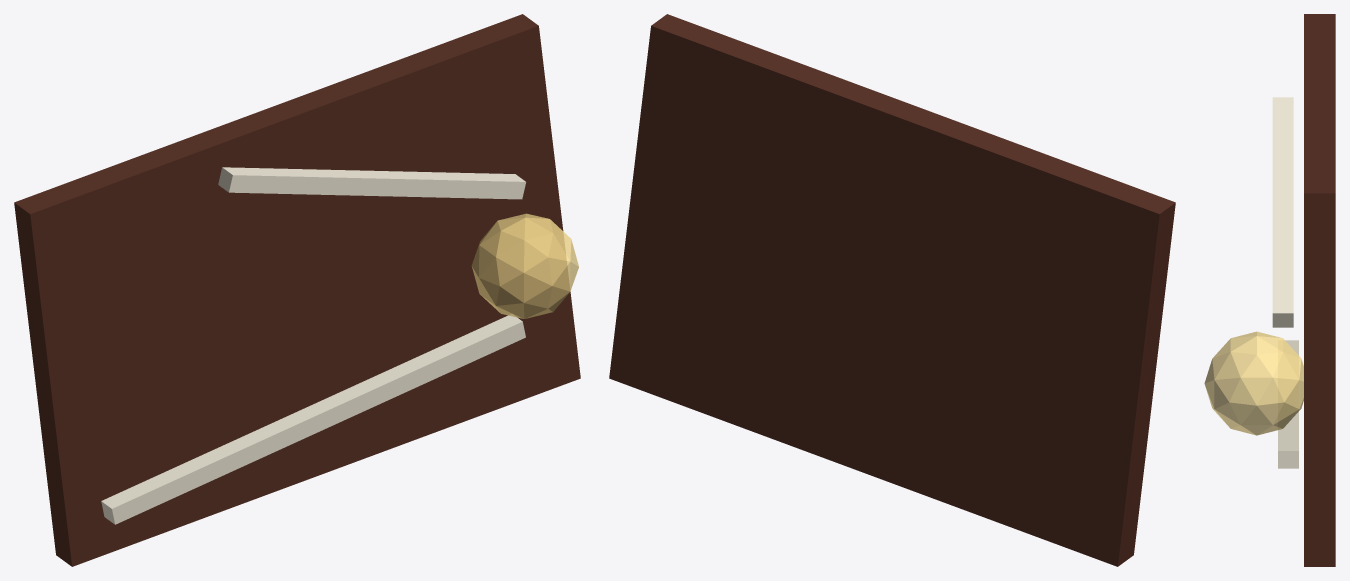
The model's file is 02_world_prop_polish.glb.
3 renders of one model, left to right at view 1: azimuth 30°, elevation 25°; view 2: azimuth 150°, elevation 25°; view 3: azimuth 270°, elevation 25°, orthographic. The views are drawn at different scales.
Parts seen in each view (by area): view 1: object_overlay_plate, edge_wear_a, glow_socket, edge_wear_b; view 2: object_overlay_plate; view 3: object_overlay_plate, glow_socket, edge_wear_b, edge_wear_a.
Boxes of the visible parts, x1,y1,x2,y2 form: object_overlay_plate: (14,14,580,566); edge_wear_a: (101,314,525,524); glow_socket: (471,213,578,318); edge_wear_b: (218,167,526,199); object_overlay_plate: (609,14,1175,566); object_overlay_plate: (1304,14,1335,566); glow_socket: (1204,331,1303,435); edge_wear_b: (1272,97,1293,327); edge_wear_a: (1278,340,1298,468).
Bounding box in the file's own units: 1.18 × 0.8766 × 0.25.
